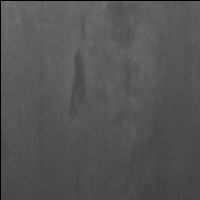inclusion: (61, 40, 92, 126), (117, 51, 140, 113)
